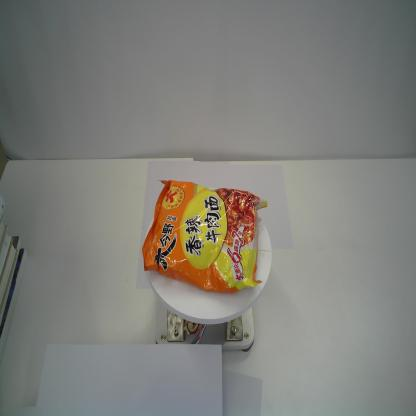Instant Noodles: (141, 180, 269, 294)
